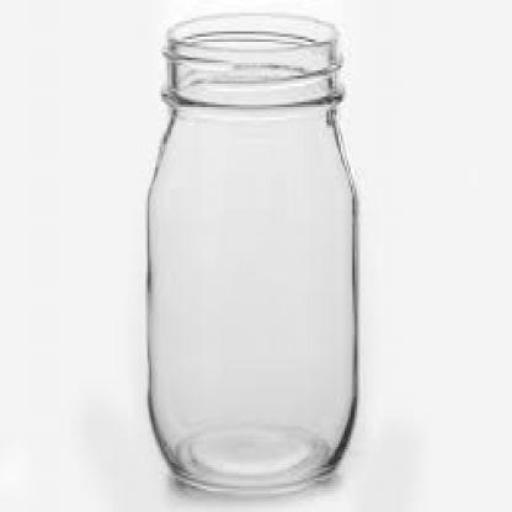glass: (147, 13, 355, 485)
